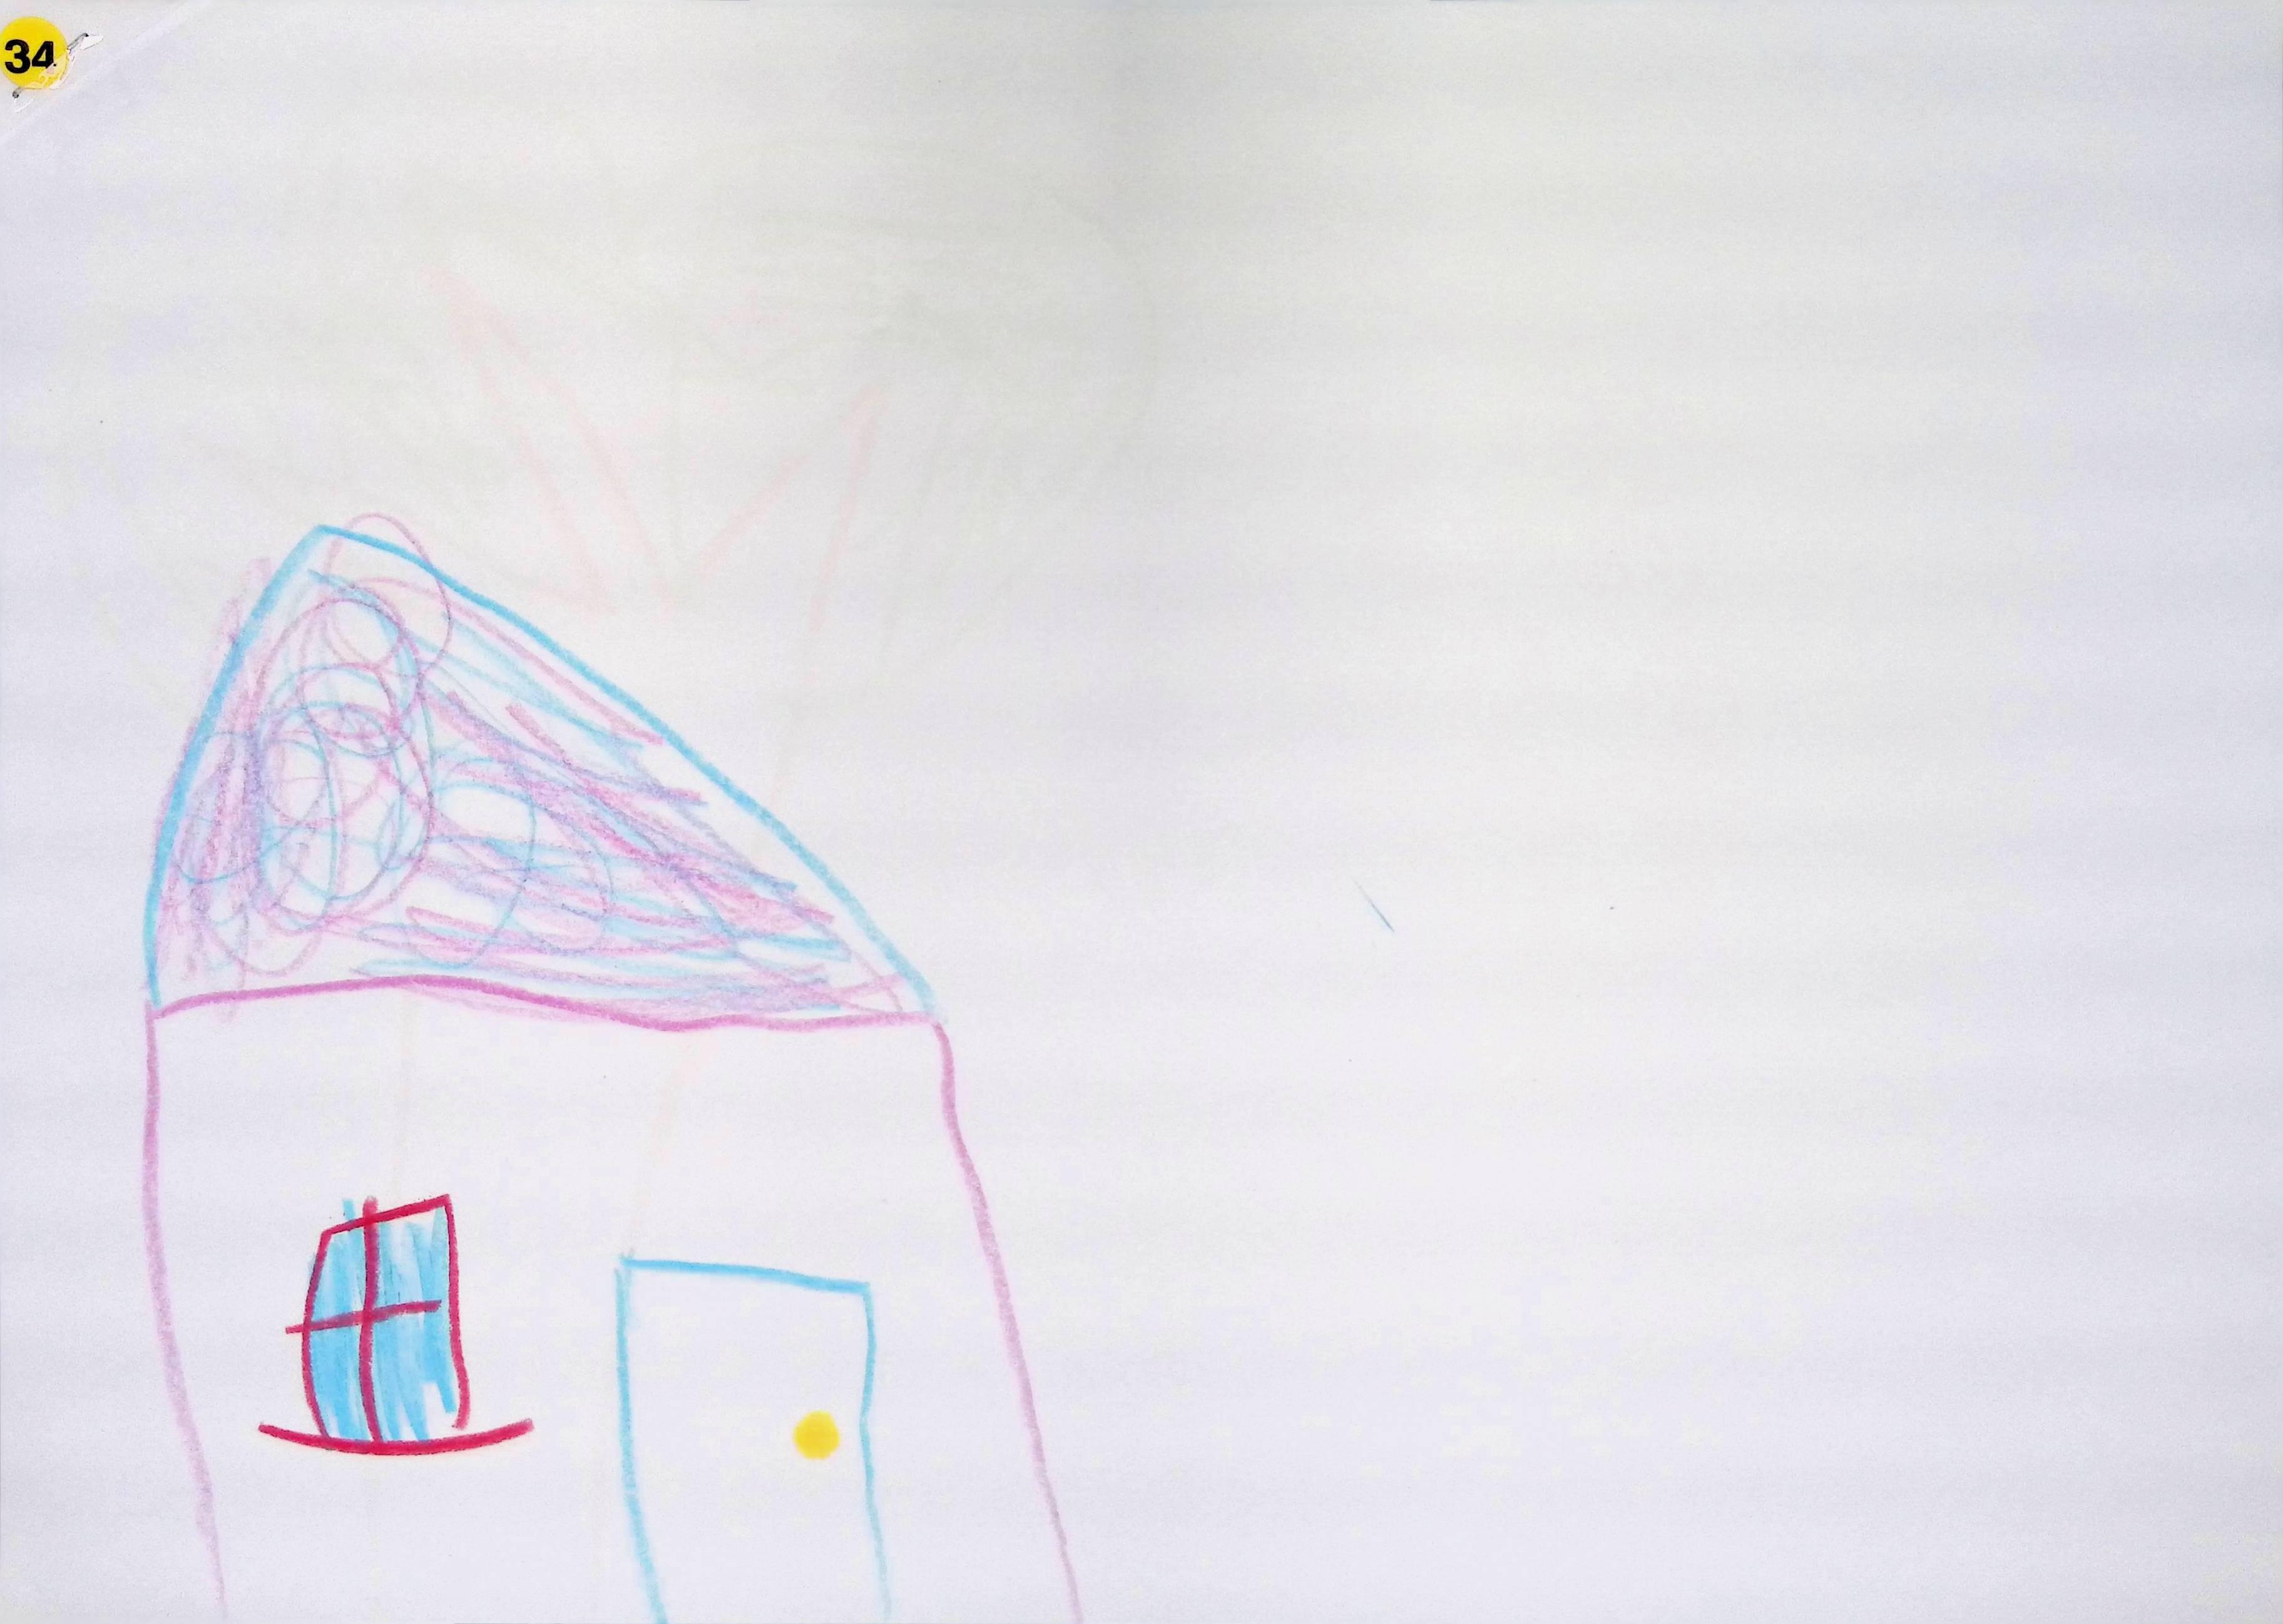door: (615, 1258, 889, 1622)
house: (141, 527, 1079, 1620)
roof: (134, 522, 937, 1035)
wall: (144, 986, 1083, 1624)
window: (258, 1195, 531, 1455)
